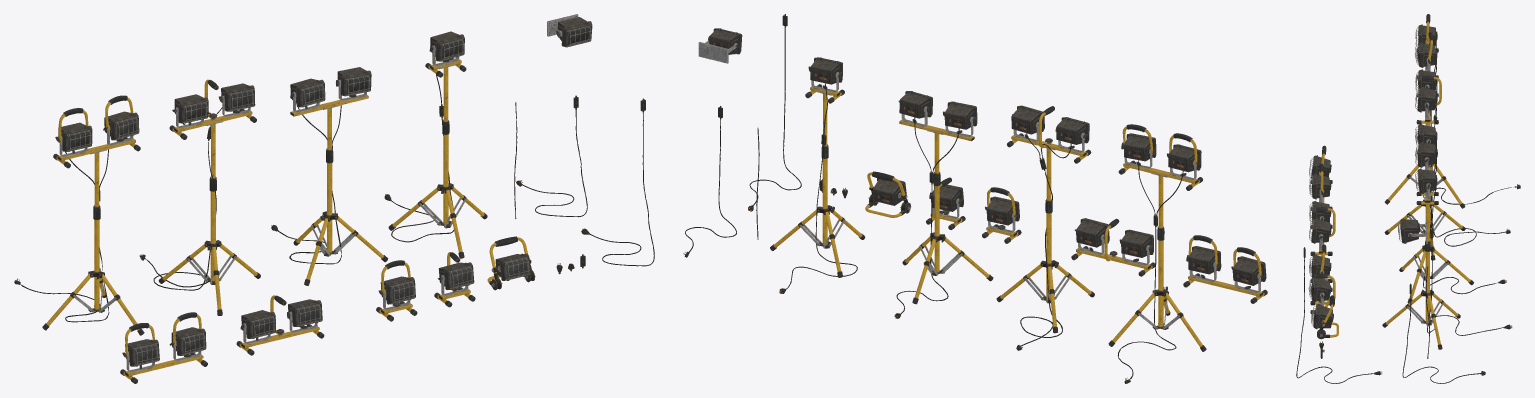
The model's file is flood_lights.glb.
3 views of the same model, side by side, from view 1: azimuth 30°, elevation 25°; view 2: azimuth 150°, elevation 25°; view 3: azimuth 270°, elevation 25° (orthographic). The views are drawn at different scales.
Visible parts, largest first — view 1: flood_lights_standing_single_stand, flood_lights_standing_double_c_stand, flood_lights_standing_double_b_stand, flood_lights_standing_double_a_stand, flood_lights_wall_light, flood_lights_standing_double_c_light_02, flood_lights_standing_double_b_light_01, flood_lights_standing_double_a_bar, flood_lights_standing_single_light, flood_lights_standing_double_b_light_02, flood_lights_floor_double_b_light_01, flood_lights_standing_double_c_light_01 (+13 smaller); view 2: flood_lights_standing_single_stand, flood_lights_standing_double_c_stand, flood_lights_standing_double_b_stand, flood_lights_standing_double_a_stand, flood_lights_standing_double_a_bar, flood_lights_standing_double_c_light_01, flood_lights_floor_double_b_light_01, flood_lights_standing_double_b_light_01, flood_lights_standing_double_c_light_02, flood_lights_standing_single_light, flood_lights_floor_double_a_light_01, flood_lights_floor_double_b_light_02 (+17 smaller); view 3: flood_lights_standing_single_stand, flood_lights_standing_double_c_stand, flood_lights_standing_double_b_stand, flood_lights_standing_double_a_stand, flood_lights_standing_double_c_light_02, flood_lights_standing_double_b_light_02, flood_lights_floor_single_b_light, flood_lights_standing_single_light, flood_lights_floor_double_b_light_02, flood_lights_wall_light, flood_lights_standing_double_a_light_02, flood_lights_floor_single_light_c (+15 smaller).
Part boxes in pixels (box(x1,y1,x2,y2)): flood_lights_standing_single_stand: box(388, 120, 487, 258); flood_lights_standing_double_c_stand: box(293, 148, 388, 285); flood_lights_standing_double_b_stand: box(158, 176, 260, 315); flood_lights_standing_double_a_stand: box(42, 205, 144, 335); flood_lights_wall_light: box(556, 17, 592, 47); flood_lights_standing_double_c_light_02: box(336, 67, 371, 96); flood_lights_standing_double_b_light_01: box(172, 94, 208, 123); flood_lights_standing_double_a_bar: box(53, 137, 140, 206); flood_lights_standing_single_light: box(429, 31, 464, 61); flood_lights_standing_double_b_light_02: box(218, 83, 255, 111); flood_lights_floor_double_b_light_01: box(240, 310, 275, 338); flood_lights_standing_double_c_light_01: box(290, 78, 325, 107); flood_lights_standing_single_stand: box(770, 144, 865, 277); flood_lights_standing_double_c_stand: box(902, 172, 993, 304); flood_lights_standing_double_b_stand: box(996, 199, 1094, 333); flood_lights_standing_double_a_stand: box(1108, 226, 1206, 351); flood_lights_standing_double_a_bar: box(1118, 160, 1202, 227); flood_lights_standing_double_c_light_01: box(943, 101, 977, 129); flood_lights_floor_double_b_light_01: box(1119, 229, 1153, 257); flood_lights_standing_double_b_light_01: box(1055, 117, 1089, 144); flood_lights_standing_double_c_light_02: box(898, 91, 932, 118); flood_lights_standing_single_light: box(808, 57, 842, 84); flood_lights_floor_double_a_light_01: box(1232, 256, 1266, 285); flood_lights_floor_double_b_light_02: box(1074, 218, 1109, 247); flood_lights_standing_single_stand: box(1382, 240, 1460, 349); flood_lights_standing_double_c_stand: box(1399, 204, 1473, 303); flood_lights_standing_double_b_stand: box(1384, 199, 1465, 260); flood_lights_standing_double_a_stand: box(1384, 111, 1465, 208); flood_lights_standing_double_c_light_02: box(1415, 142, 1437, 167); flood_lights_standing_double_b_light_02: box(1415, 87, 1437, 112); flood_lights_floor_single_b_light: box(1308, 277, 1331, 302); flood_lights_standing_single_light: box(1415, 168, 1437, 193); flood_lights_floor_double_b_light_02: box(1309, 218, 1331, 243); flood_lights_wall_light: box(1398, 218, 1420, 243); flood_lights_standing_double_a_light_02: box(1414, 42, 1437, 67); flood_lights_floor_single_light_c: box(1311, 304, 1333, 329).
Size of the model in its own units: 4.6 by 1.81 by 2.11.
Materials: 2 (2 with a texture image).
